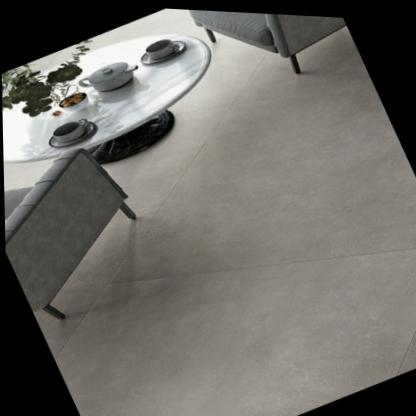Ceramic floor: (31, 7, 416, 416)
